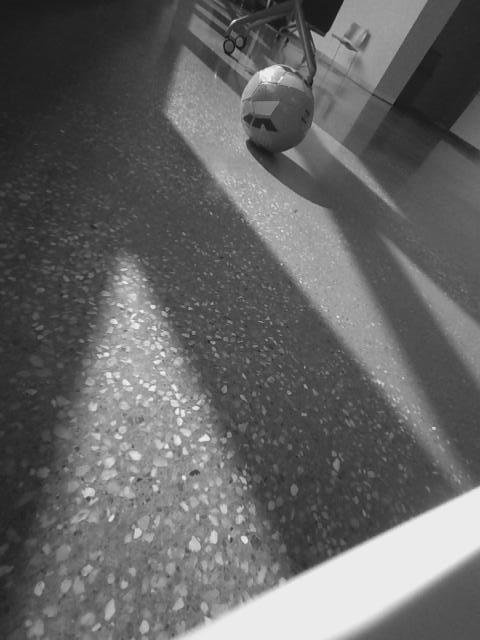ball: (236, 60, 317, 154)
